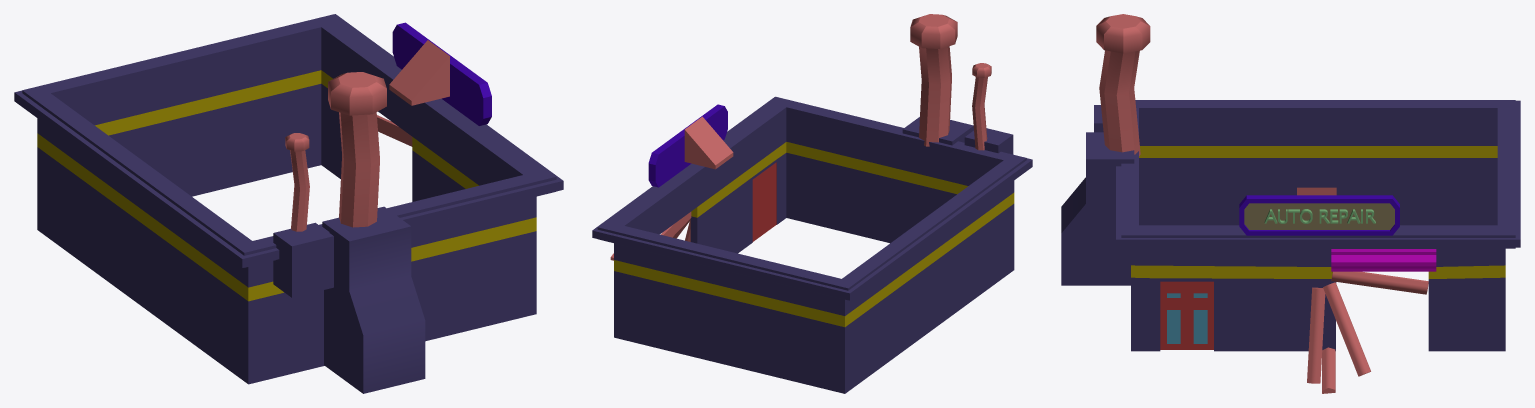
The model's file is Garage_Bottom.fbx.
The picture shows the model from 3 angles, left to right: view 1: azimuth 30°, elevation 25°; view 2: azimuth 150°, elevation 25°; view 3: azimuth 270°, elevation 25°; orthographic projection. The views are drawn at different scales.
Visible parts, largest first — view 1: pCube14; view 2: pCube14; view 3: pCube14.
Boxes of the visible parts, <box> form: pCube14: <box>14,14,563,393</box>; pCube14: <box>592,14,1032,393</box>; pCube14: <box>1061,14,1520,393</box>.
Size of the model in its own units: 2294 by 1658 by 2553.
